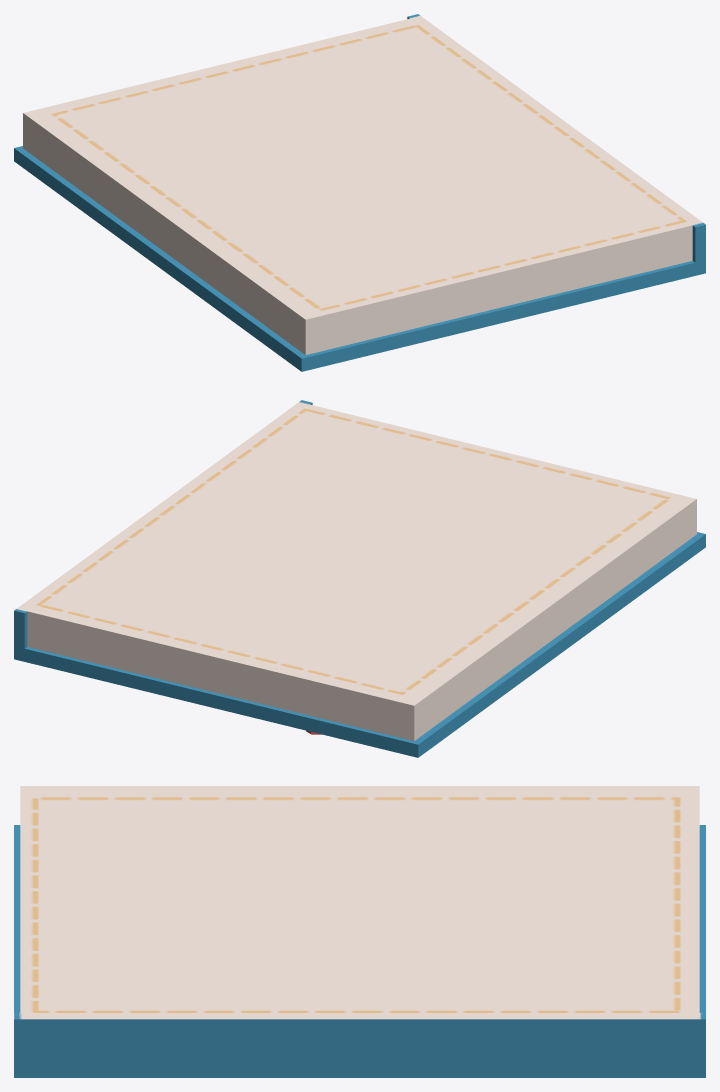
File: BookLeft.gltf
3 views of the same model, one above another, from view 1: azimuth 30°, elevation 25°; view 2: azimuth 150°, elevation 25°; view 3: azimuth 270°, elevation 25° (orthographic). The views are drawn at different scales.
Visible parts, largest first — view 1: BookLeft1; view 2: BookLeft1; view 3: BookLeft1.
Part boxes in pixels (bbox=[...]): BookLeft1: bbox=[14, 14, 705, 371]; BookLeft1: bbox=[14, 400, 705, 757]; BookLeft1: bbox=[14, 786, 705, 1077].
Size of the model in its own units: 4.55 by 0.6487 by 5.62.
6 materials, 6 textured.
